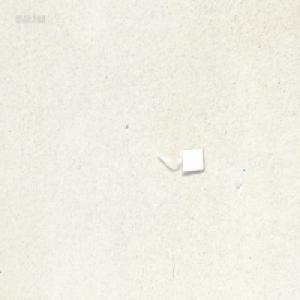LuggageTag: (156, 146, 204, 174)
